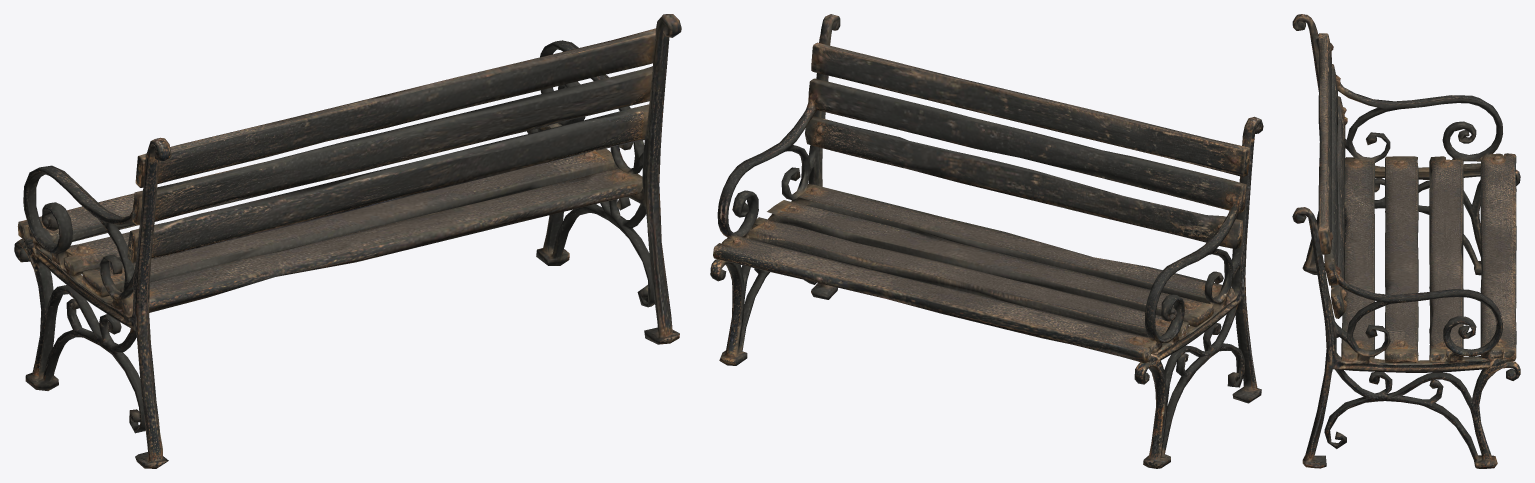
File: bench.glb
The picture shows the model from 3 angles, left to right: view 1: azimuth 30°, elevation 25°; view 2: azimuth 150°, elevation 25°; view 3: azimuth 270°, elevation 25°; orthographic projection. The views are drawn at different scales.
Parts seen in each view (by area): view 1: tripo_node_71e83c7a-ca11-4287-9e74-247be482f7b0; view 2: tripo_node_71e83c7a-ca11-4287-9e74-247be482f7b0; view 3: tripo_node_71e83c7a-ca11-4287-9e74-247be482f7b0.
Boxes of the visible parts, box(x1,y1,x2,y2) form: tripo_node_71e83c7a-ca11-4287-9e74-247be482f7b0: box(14, 14, 681, 468); tripo_node_71e83c7a-ca11-4287-9e74-247be482f7b0: box(710, 14, 1263, 468); tripo_node_71e83c7a-ca11-4287-9e74-247be482f7b0: box(1292, 14, 1520, 468).
Bounding box in the file's own units: 1.59 × 0.95 × 0.7563.
Materials: 1 (1 with a texture image).
